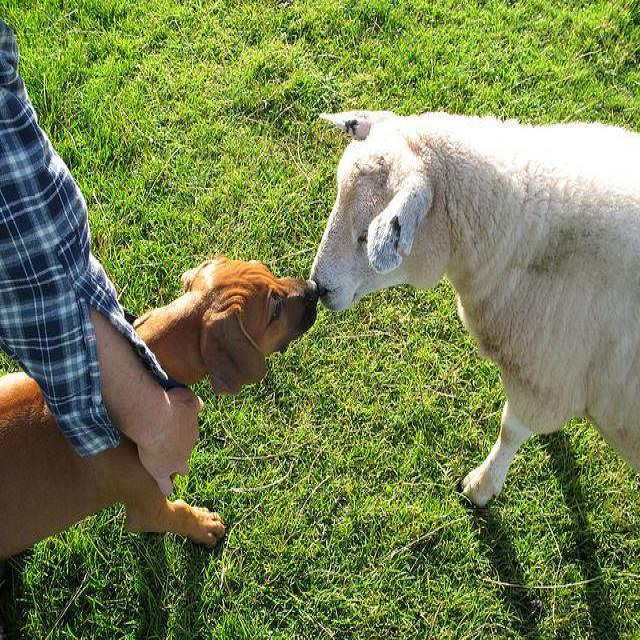Sheep: (308, 106, 639, 506)
